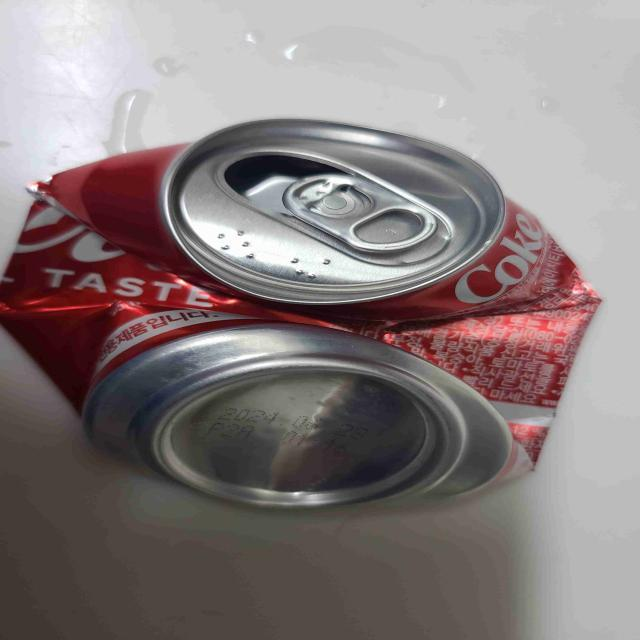kimloai: (0, 120, 599, 508)
